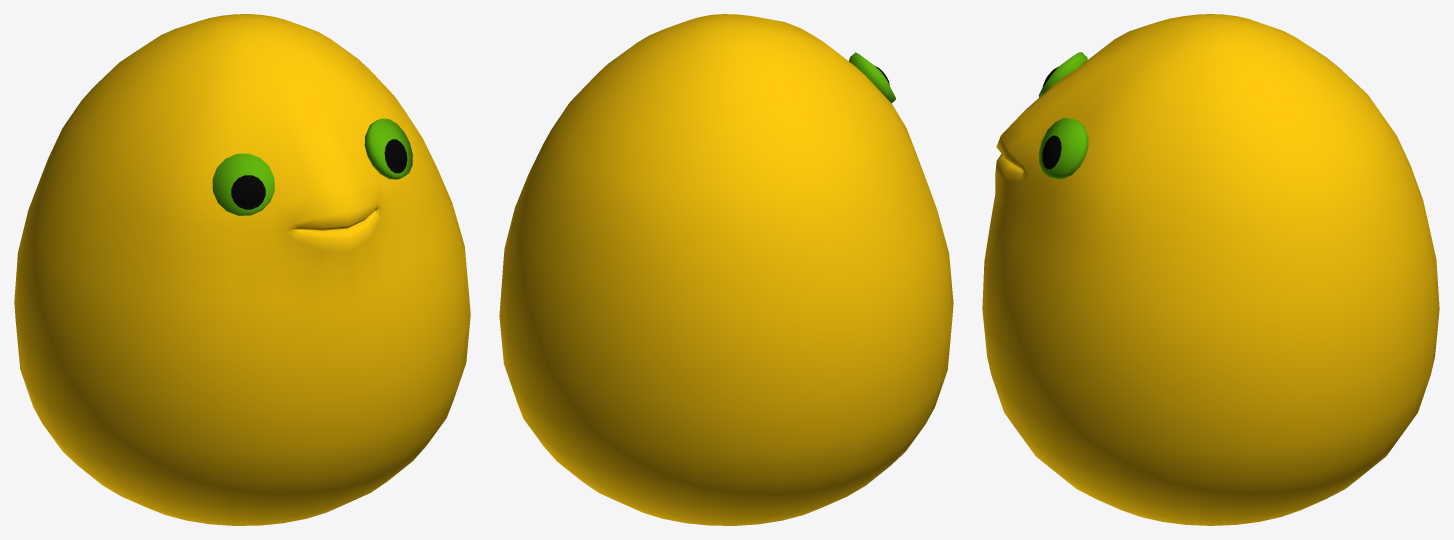
The picture shows the model from 3 angles, left to right: view 1: azimuth 30°, elevation 25°; view 2: azimuth 150°, elevation 25°; view 3: azimuth 270°, elevation 25°; orthographic projection.
Visible parts, largest first — view 1: 球体, 球体.001; view 2: 球体, 球体.001; view 3: 球体, 球体.001.
Part boxes in pixels (x1=…): 球体: x1=14, y1=14, x2=470, y2=525; 球体.001: x1=212, y1=118, x2=412, y2=215; 球体: x1=499, y1=14, x2=953, y2=525; 球体.001: x1=849, y1=52, x2=895, y2=103; 球体: x1=982, y1=14, x2=1439, y2=525; 球体.001: x1=1038, y1=52, x2=1088, y2=179.
Bounding box in the file's own units: 0.57 × 0.6574 × 0.5705.
Materials: 2 (2 with a texture image).
